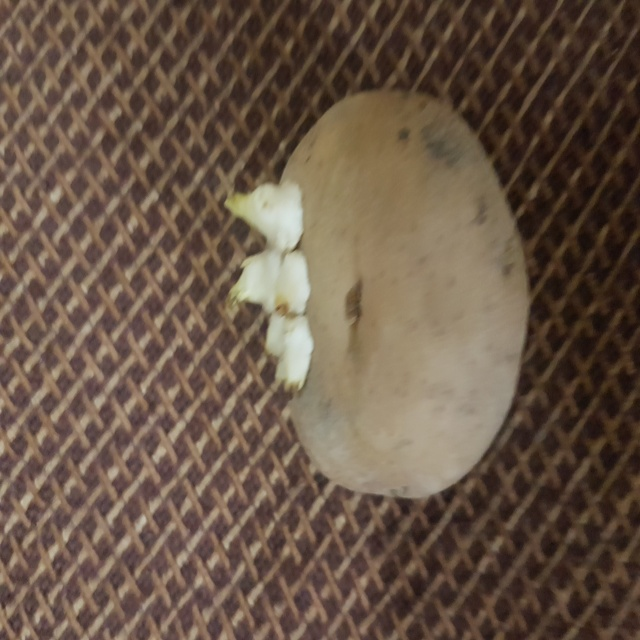potato: (227, 81, 538, 512)
